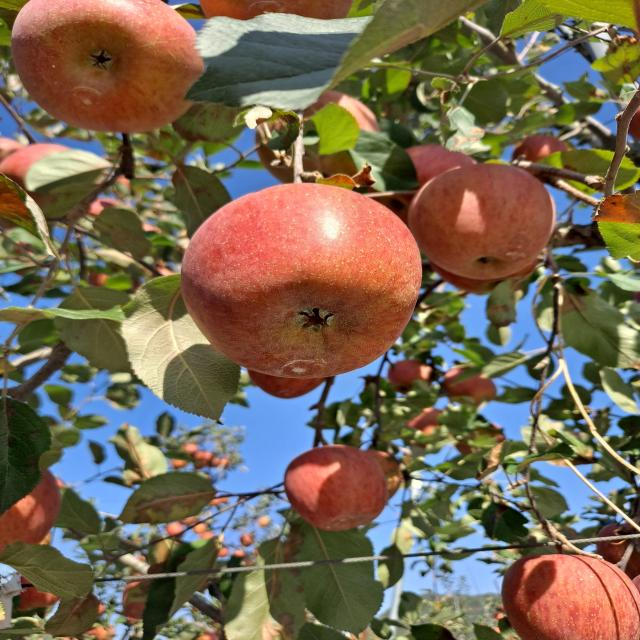fresh: (179, 181, 438, 387), (10, 1, 213, 145)
